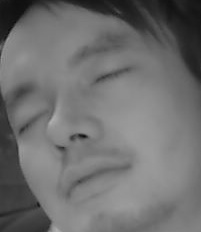blink: (89, 65, 132, 89), (16, 107, 51, 135)
mouth: (59, 154, 131, 202)
